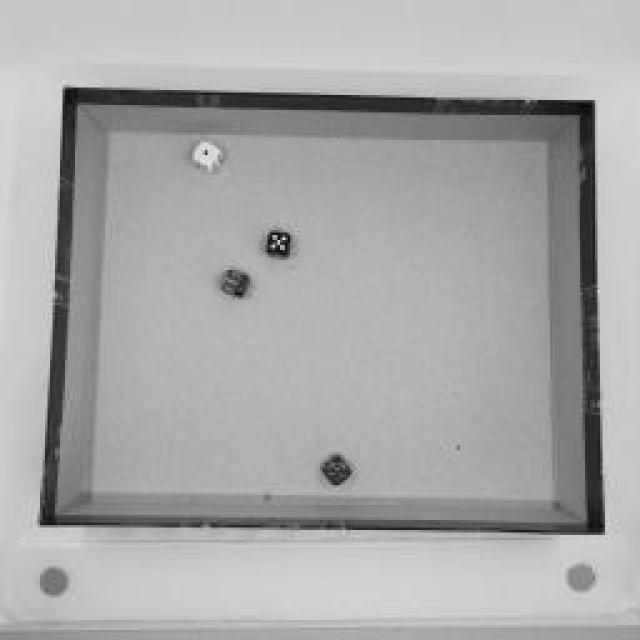dice_1: (188, 139, 228, 176)
dice_4: (317, 455, 355, 490)
dice_5: (265, 230, 295, 260)
dice_6: (220, 268, 250, 300)
